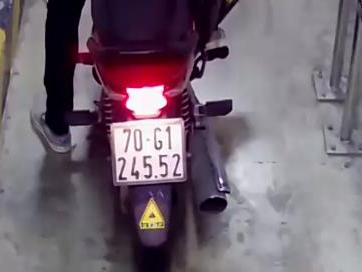num_plate: (111, 119, 187, 187)
